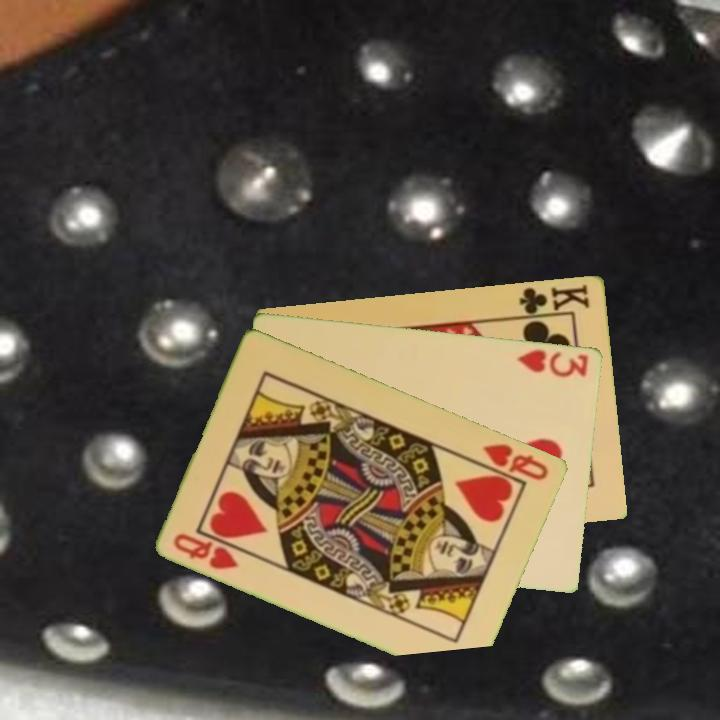3h: (514, 345, 592, 380)
Kc: (514, 280, 592, 319)
Qh: (170, 529, 243, 573), (480, 439, 552, 483)
